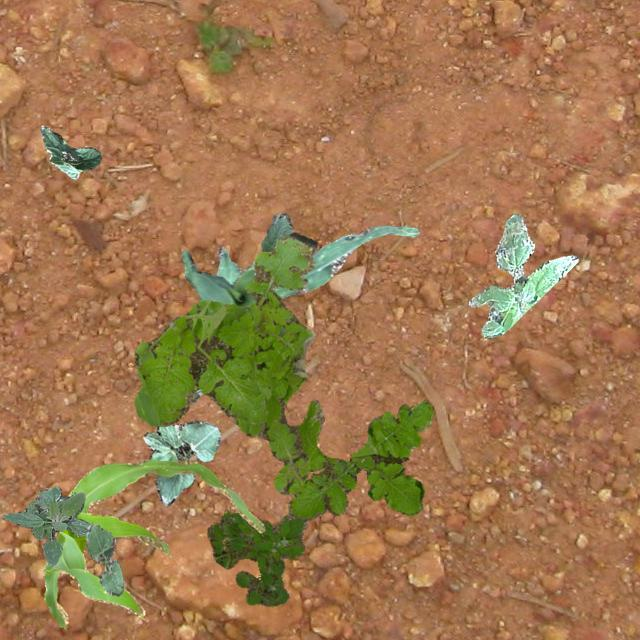crop: (42, 458, 264, 628), (180, 212, 418, 306), (190, 246, 240, 402), (1, 486, 90, 564), (142, 420, 220, 504), (38, 124, 100, 178), (86, 524, 122, 594), (260, 212, 292, 250)
weed: (134, 232, 324, 496), (288, 398, 432, 518), (468, 212, 576, 336), (206, 510, 308, 606)
